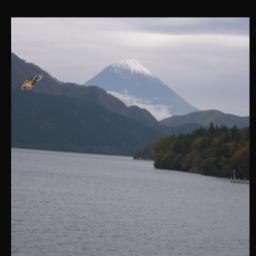Swallow: (21, 74, 44, 91)
